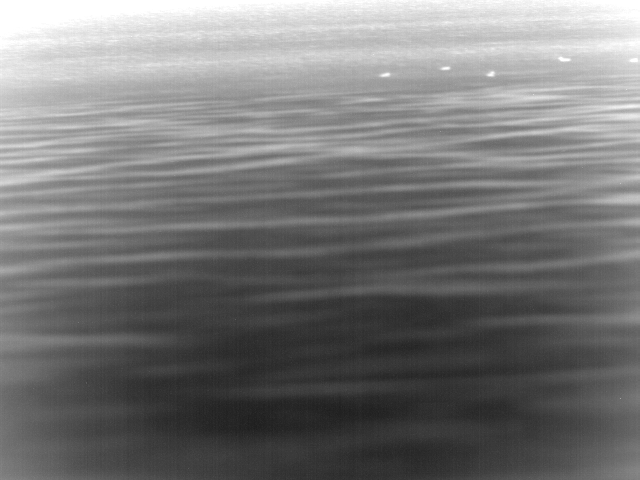dim target: (378, 70, 390, 78), (558, 56, 571, 63), (438, 65, 451, 71), (486, 69, 494, 78), (630, 57, 638, 63)
